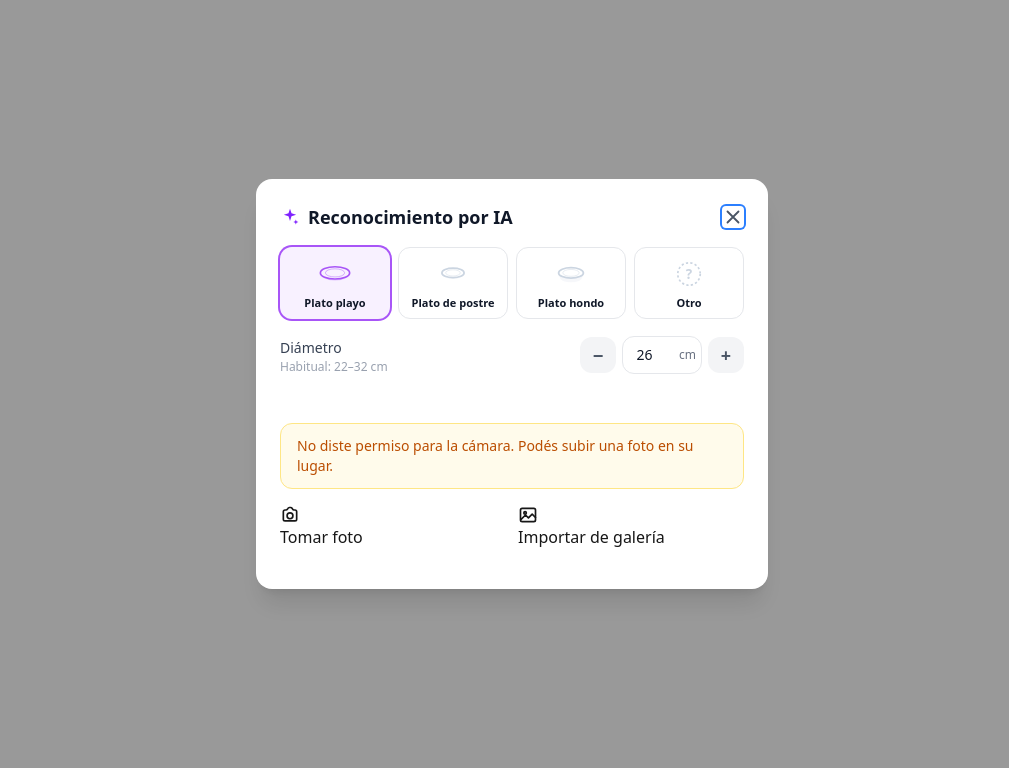
Test: AIRecognitionModal — Pantalla 1 unificada (NUT-169) › "Otro" muestra el aviso de imprecisión y nunca el diámetro ni la cámara
Click the text "Otro": (689, 303) left=676, top=296, right=702, bottom=310
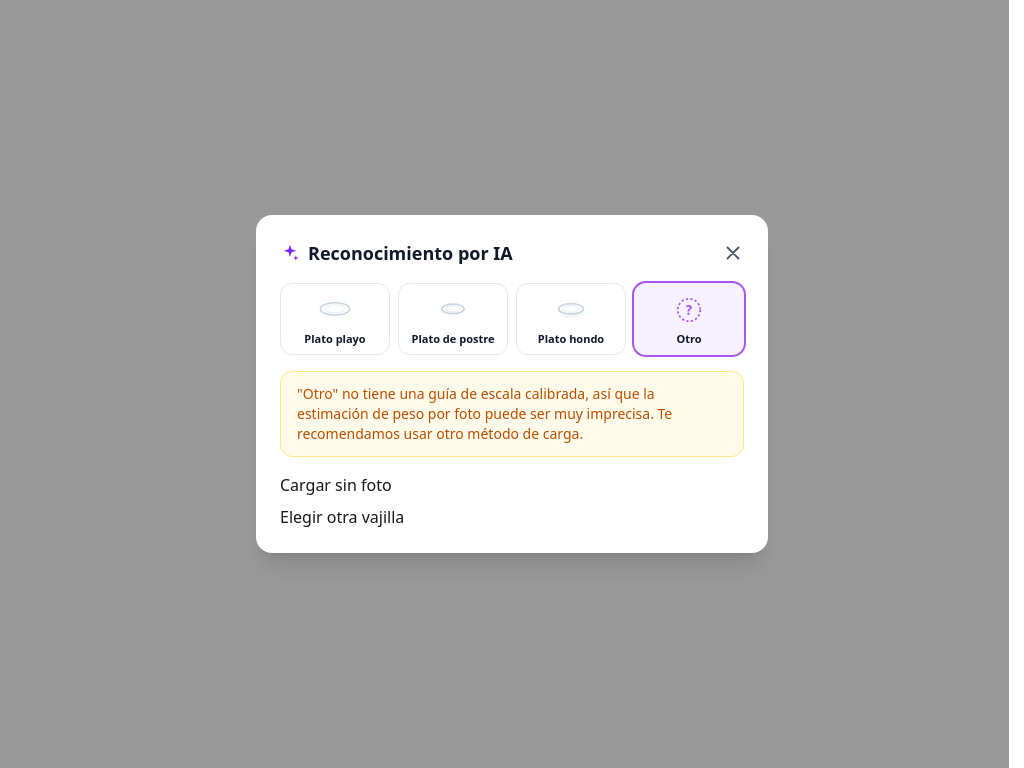
Expected: the label labelled "Diámetro" is gone
